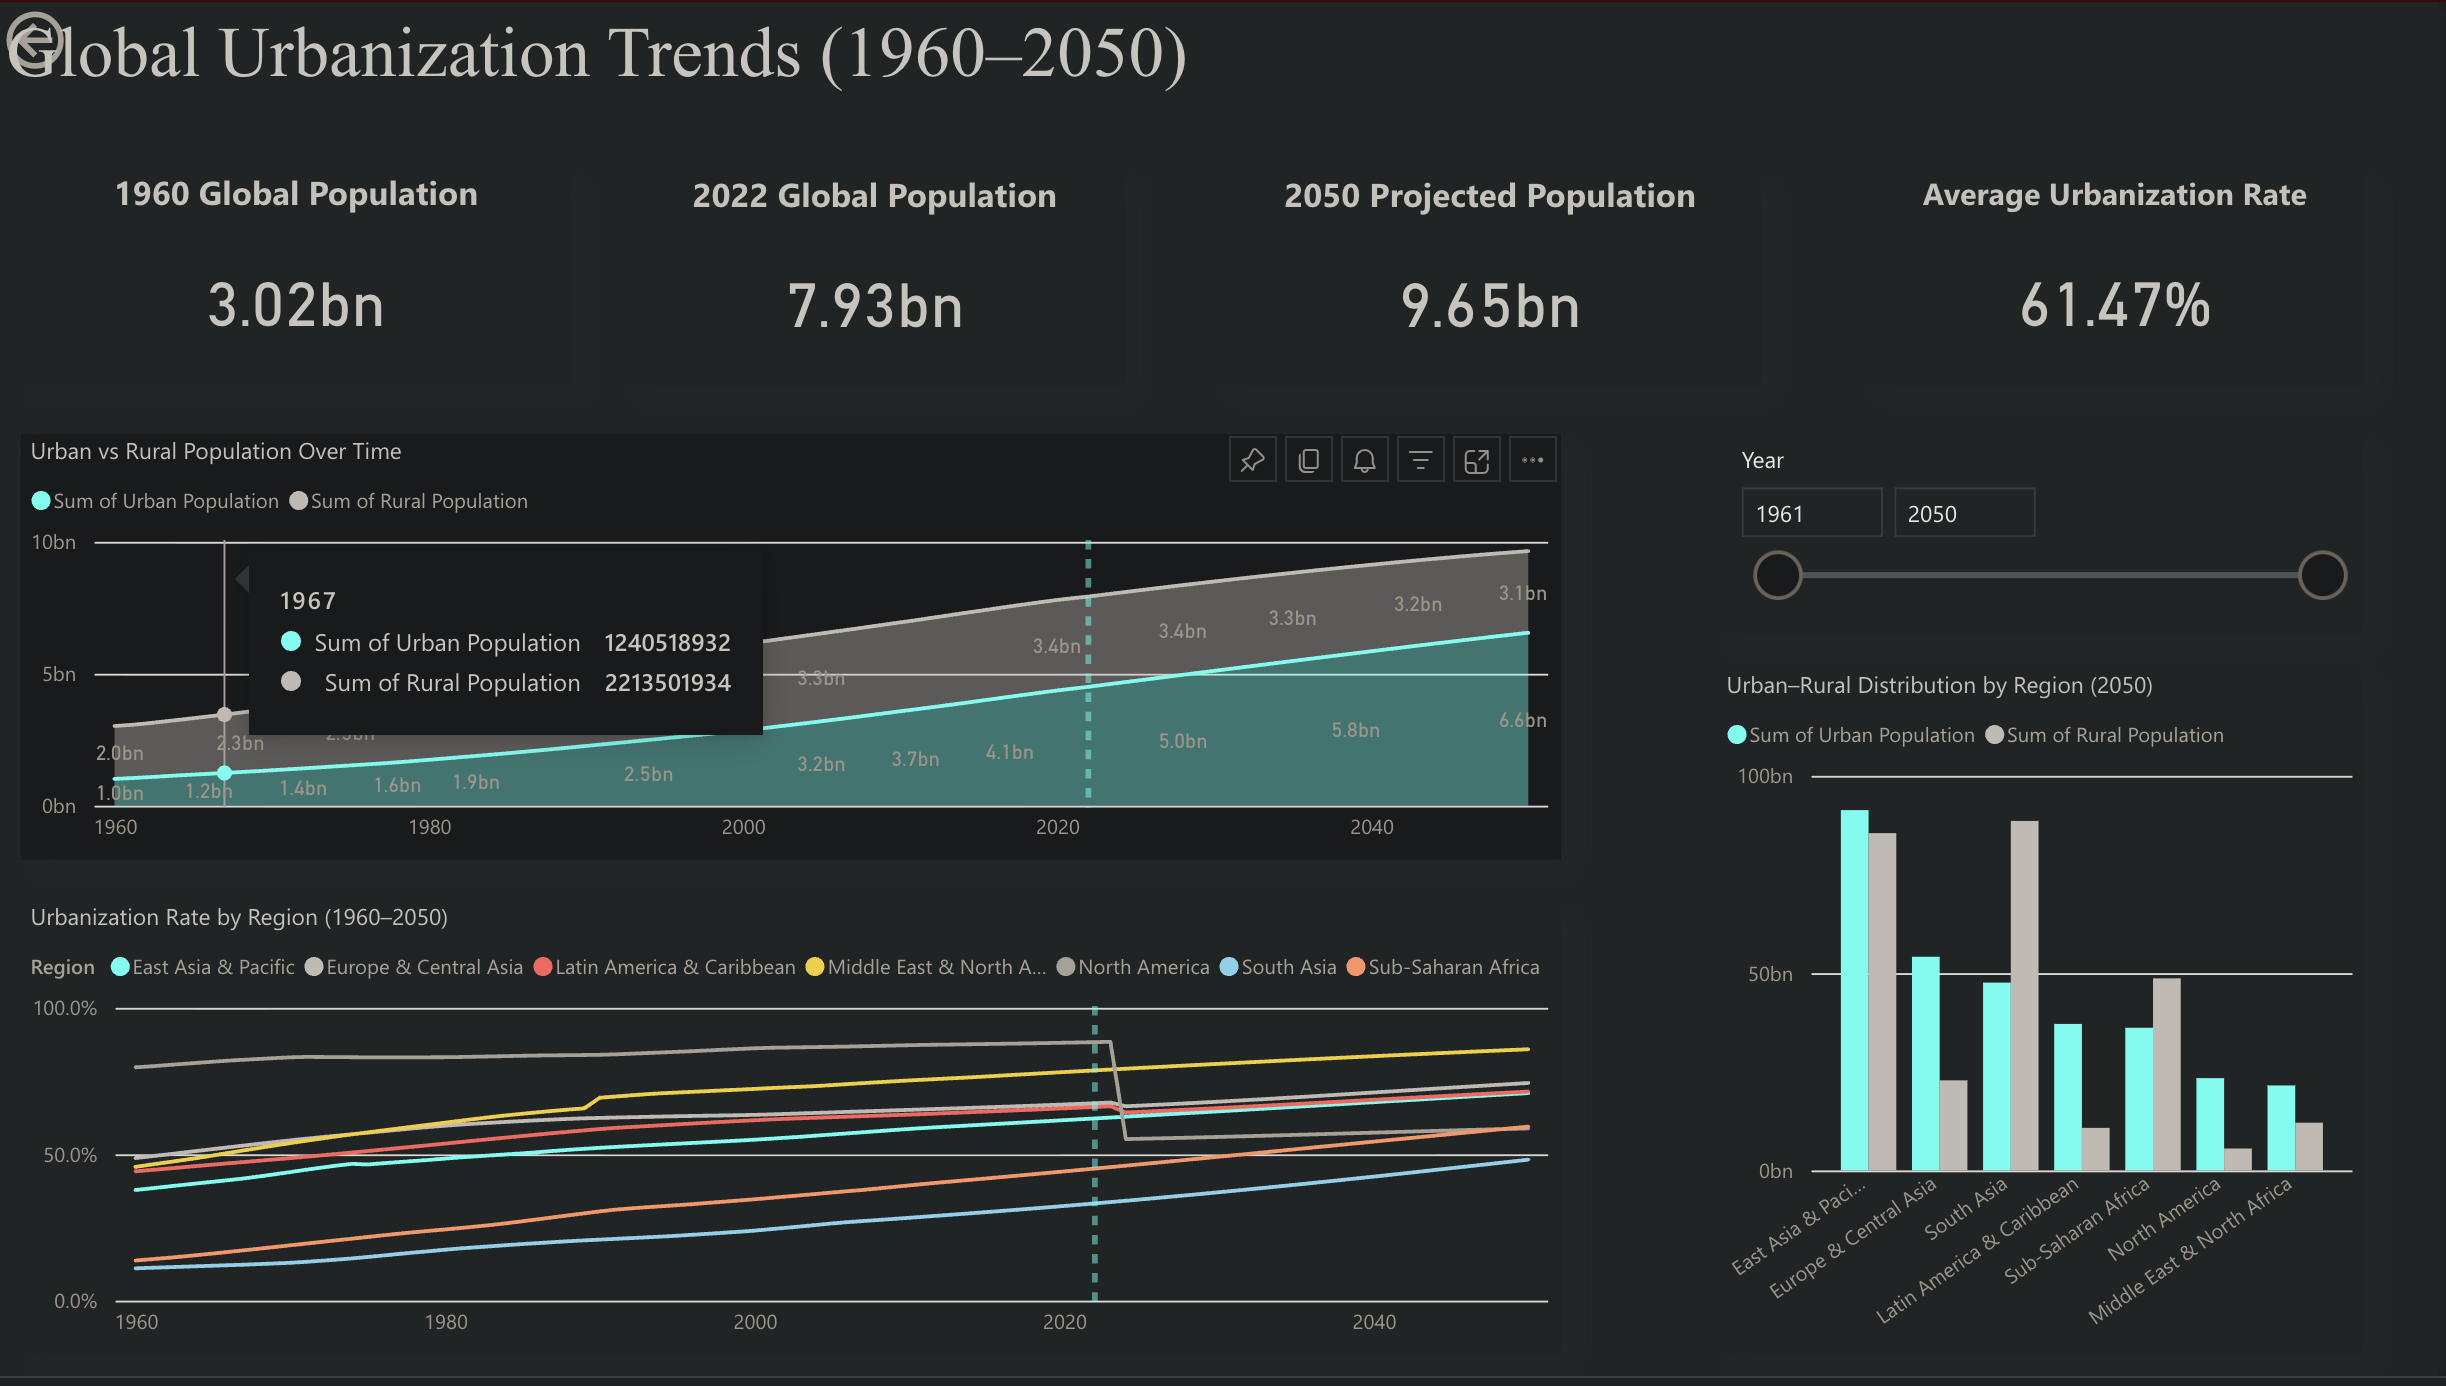

Layout of this report page (visuals, bound fields, positions):
{"tool":"powerbi","page":{"name":"Page 1","canvas":[1280,720],"ordinal":0},"visuals":[{"type":"card","title":"1960 Global Population","fields":{"Values":["Sum(master_population_data.Total Population)"]},"box":[12.1,88,288.2,112.2],"z":0},{"type":"actionButton","box":[0,0,100,40],"z":1000},{"type":"card","title":"2050 Projected Population","fields":{"Values":["Sum(master_population_data.Total Population)"]},"box":[640,89.2,284.1,111.5],"z":2000},{"type":"card","title":"Average Urbanization Rate","fields":{"Values":["Avg(master_population_data.Urbanization Rate)","select"]},"box":[979.4,89.2,259.9,111.5],"z":3000},{"type":"card","title":"2022 Global Population","fields":{"Values":["Sum(master_population_data.Total Population)"]},"box":[328.7,89.2,261.8,111.5],"z":4000},{"type":"stackedAreaChart","title":"Urban vs Rural Population Over Time","fields":{"Category":["master_population_data.Year"],"Y":["Sum(master_population_data.Urban Population)","Sum(master_population_data.Rural Population)"]},"box":[12.1,226,806.8,222.9],"z":5000},{"type":"lineChart","title":"Urbanization Rate by Region (1960–2050)","fields":{"Category":["master_population_data.Year"],"Y":["Avg(master_population_data.Urbanization Rate)"],"Series":["master_population_data.Region"]},"box":[12.1,470.1,806.8,238.1],"z":6000},{"type":"clusteredColumnChart","title":"Urban–Rural Distribution by Region (2050)","fields":{"Y":["Sum(master_population_data.Urban Population)","Sum(master_population_data.Rural Population)"],"Category":["master_population_data.Region"]},"box":[900.9,348.8,338.2,359.4],"z":7000},{"type":"textbox","box":[0,0,1280,69.8],"z":8000},{"type":"slicer","fields":{"Values":["master_population_data.Year"]},"box":[900.9,226,338.2,104.6],"z":9000}]}

Visuals, with their boxes in screenshot pixels (x1, y1, x2, y2), scaled from the page's 1280x720 canvas onto the 2446x1386 screenshot:
"1960 Global Population" card: {"x1": 23, "y1": 169, "x2": 574, "y2": 385}
actionButton: {"x1": 0, "y1": 0, "x2": 191, "y2": 77}
"2050 Projected Population" card: {"x1": 1223, "y1": 172, "x2": 1766, "y2": 386}
"Average Urbanization Rate" card: {"x1": 1872, "y1": 172, "x2": 2368, "y2": 386}
"2022 Global Population" card: {"x1": 628, "y1": 172, "x2": 1128, "y2": 386}
"Urban vs Rural Population Over Time" stackedAreaChart: {"x1": 23, "y1": 435, "x2": 1565, "y2": 864}
"Urbanization Rate by Region (1960–2050)" lineChart: {"x1": 23, "y1": 905, "x2": 1565, "y2": 1363}
"Urban–Rural Distribution by Region (2050)" clusteredColumnChart: {"x1": 1722, "y1": 671, "x2": 2368, "y2": 1363}
textbox: {"x1": 0, "y1": 0, "x2": 2445, "y2": 134}
slicer - master_population_data.Year: {"x1": 1722, "y1": 435, "x2": 2368, "y2": 636}
